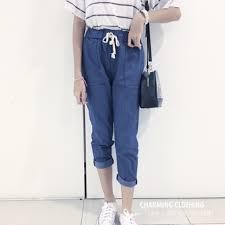Tshirt: (63, 0, 183, 32)
pants: (77, 25, 149, 191)
